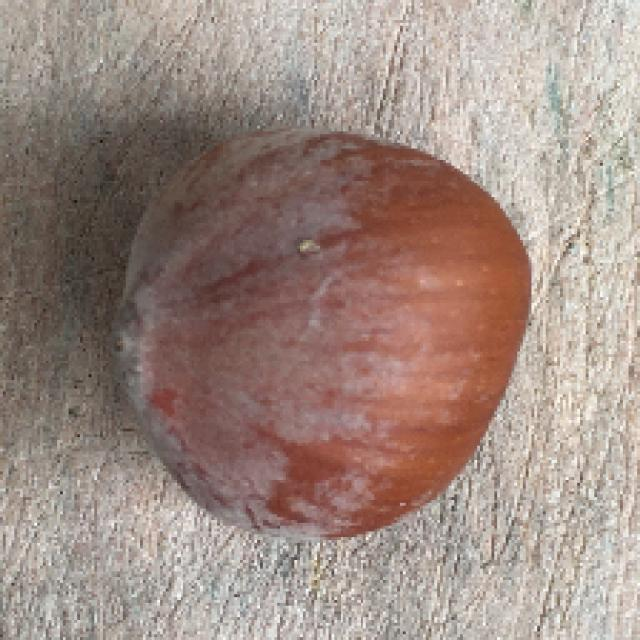qualityHazelnut: (114, 127, 538, 548)
